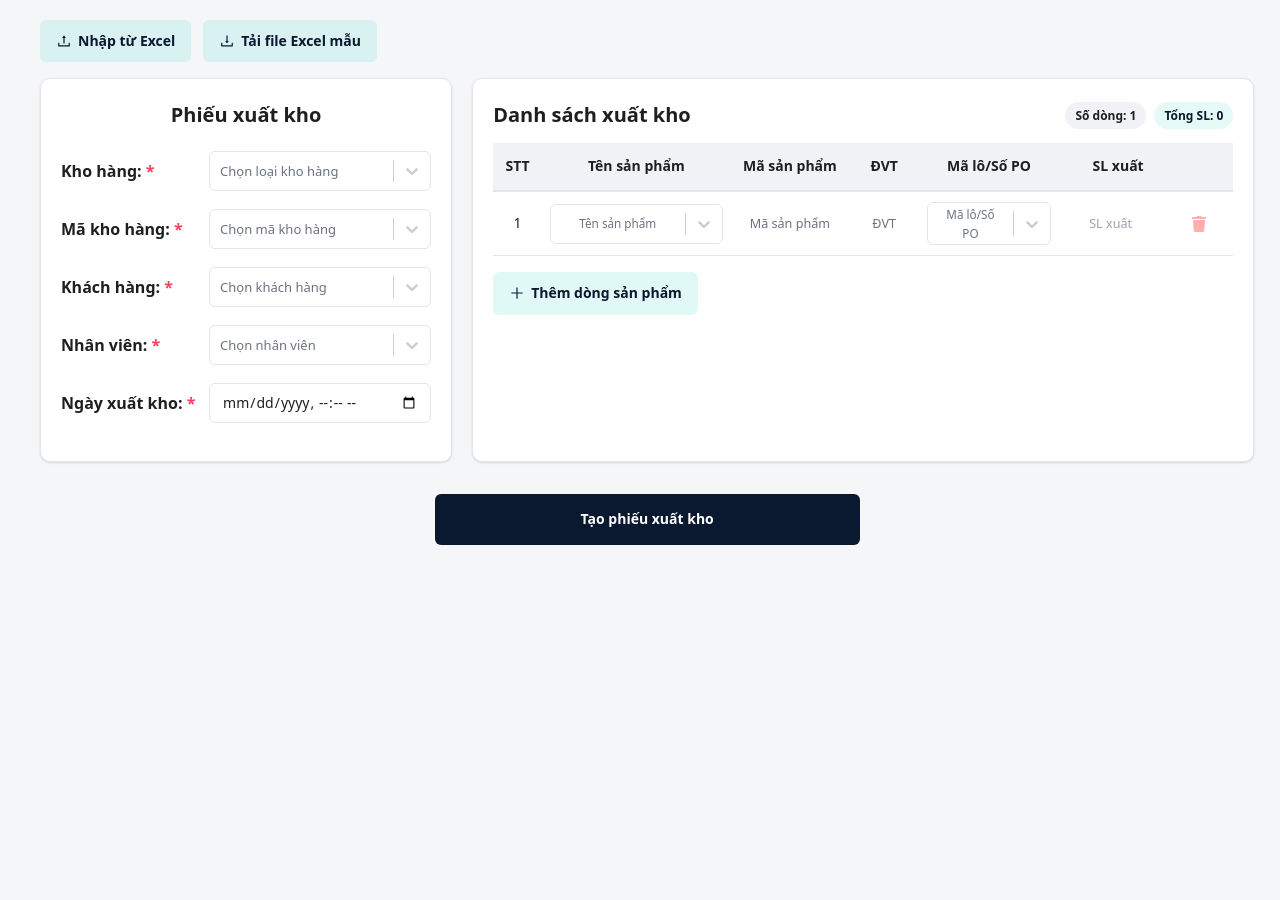
it: CreateGoodIssue › submit khi chưa chọn gì -> báo đủ lỗi validate, không gọi API tạo phiếu
Click the button "Tạo phiếu xuất kho": {"x": 647, "y": 520} x1=435 y1=494 x2=860 y2=545
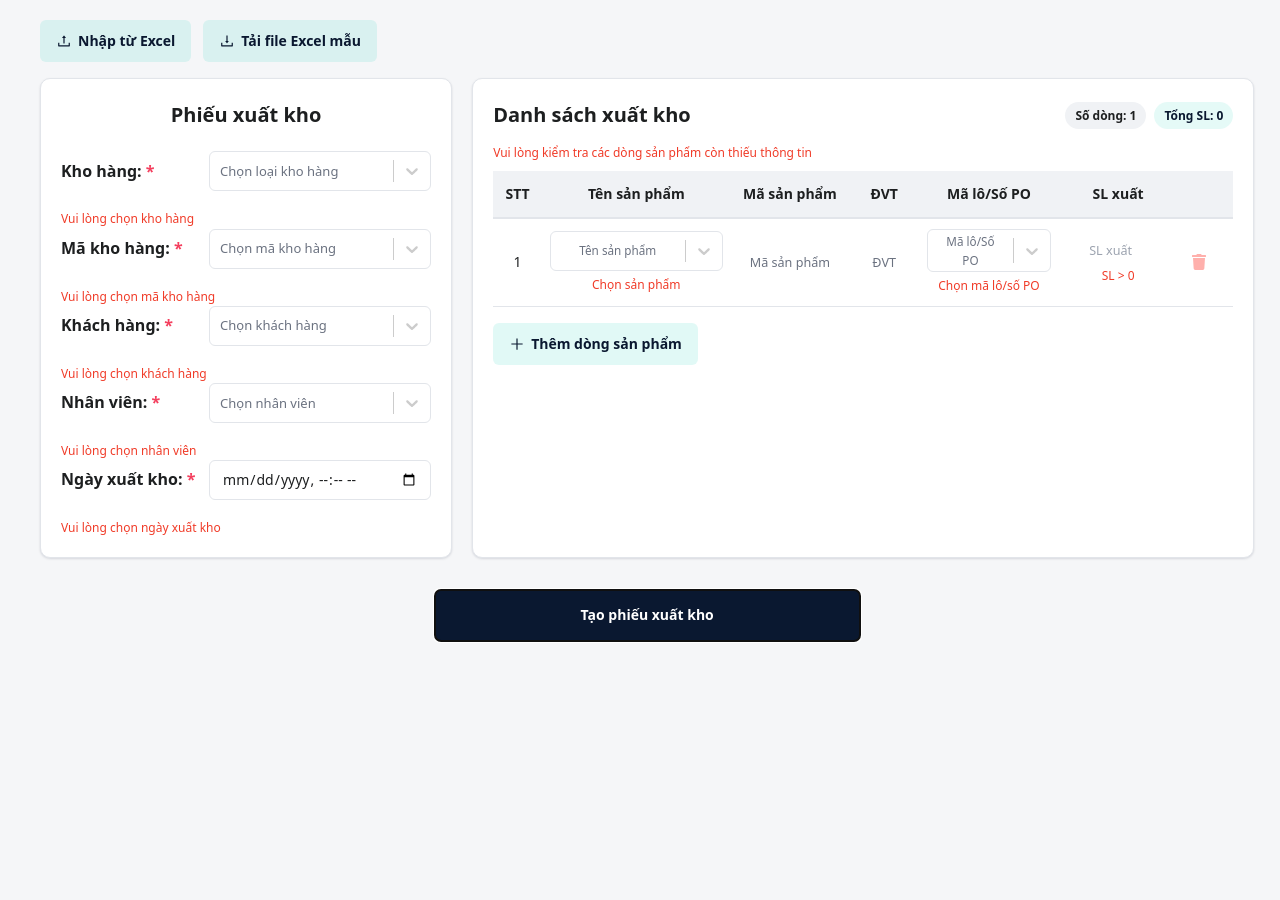
expect the text "Vui lòng chọn kho hàng" is shown: met, box x1=61 y1=210 x2=194 y2=227
expect the text "Vui lòng chọn mã kho hàng" is shown: met, box x1=61 y1=288 x2=215 y2=305
expect the text "Vui lòng chọn khách hàng" is shown: met, box x1=61 y1=365 x2=207 y2=382
